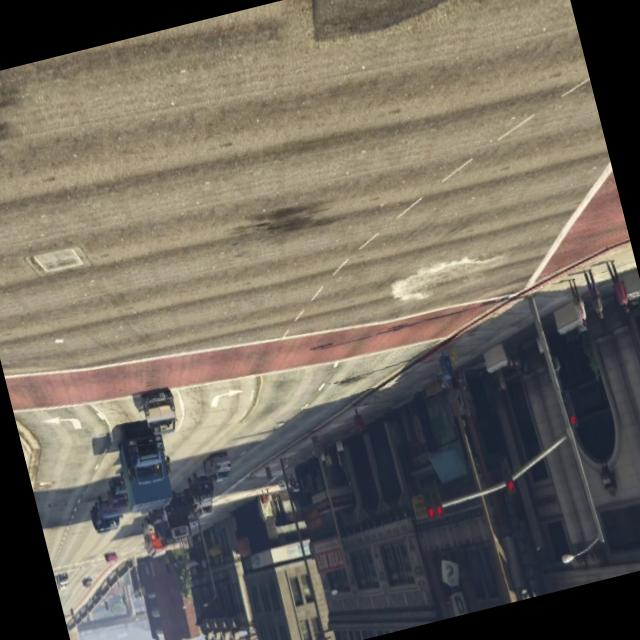Red-Signal: (412, 467, 454, 531), (495, 450, 520, 500), (558, 383, 582, 434)
